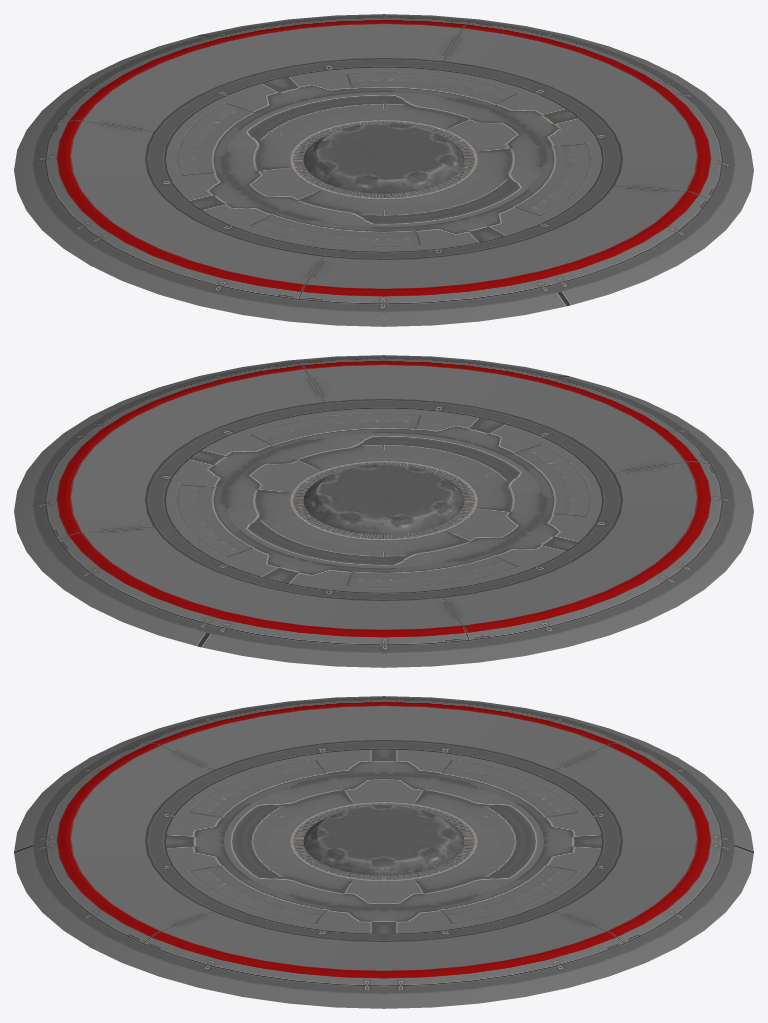
Rendered from platform_round.glb.
3 views of the same model, one above another, from view 1: azimuth 30°, elevation 25°; view 2: azimuth 150°, elevation 25°; view 3: azimuth 270°, elevation 25° (orthographic).
Parts seen in each view (by area): view 1: Platform_Round1; view 2: Platform_Round1; view 3: Platform_Round1.
Boxes of the visible parts, box(x1,y1,x2,y2) form: Platform_Round1: box(14, 14, 753, 326); Platform_Round1: box(14, 355, 753, 667); Platform_Round1: box(14, 696, 753, 1008).
Size of the model in its own units: 5.99 by 0.1702 by 5.99.
Materials: 2 (2 with a texture image).
